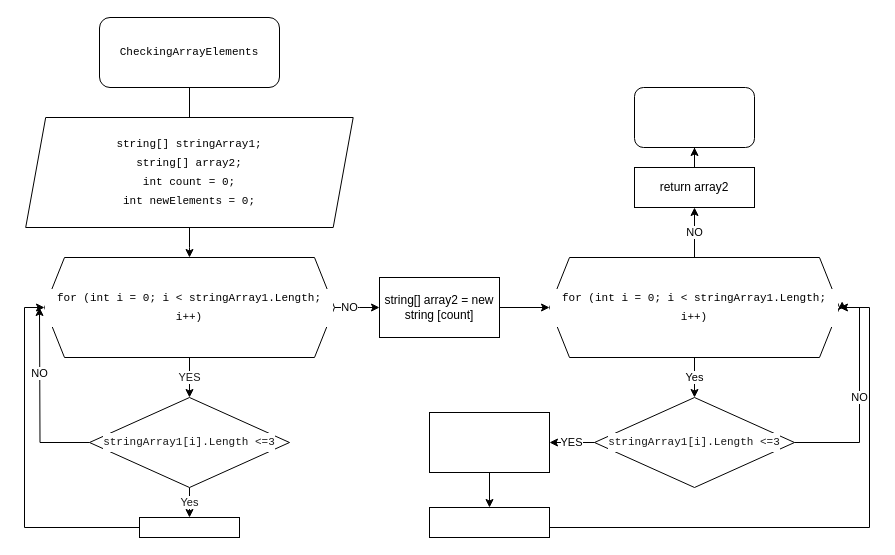
Some shapes in this 895 by 555 pixel diagram are drawn without their labels. Each missing label, with the centre of its shape:
array2[newElements] = stringArray1[i]: the point at 489,442
count++: the point at 189,527
End: the point at 694,117
newElements++: the point at 489,522
